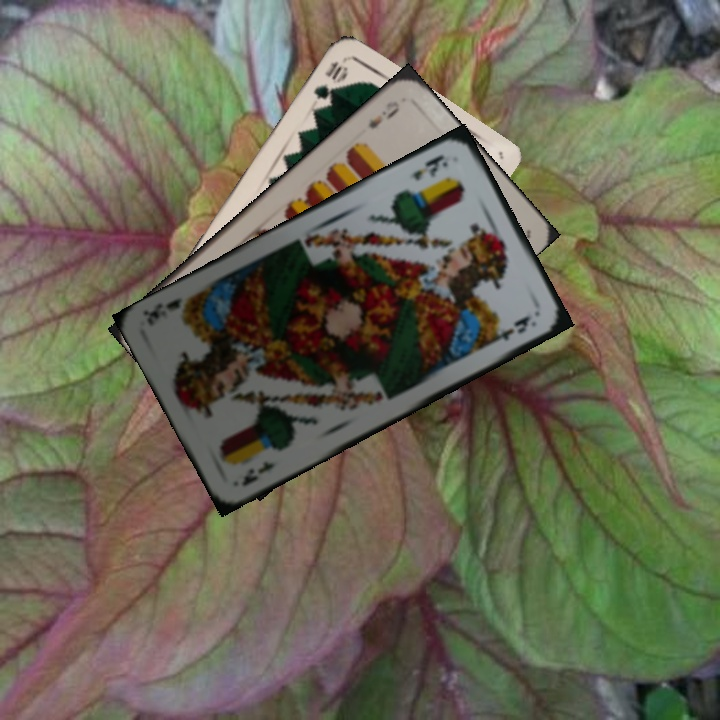E9: (364, 96, 403, 132)
EK: (409, 150, 451, 184), (237, 456, 278, 489)
G10: (309, 57, 351, 103)
